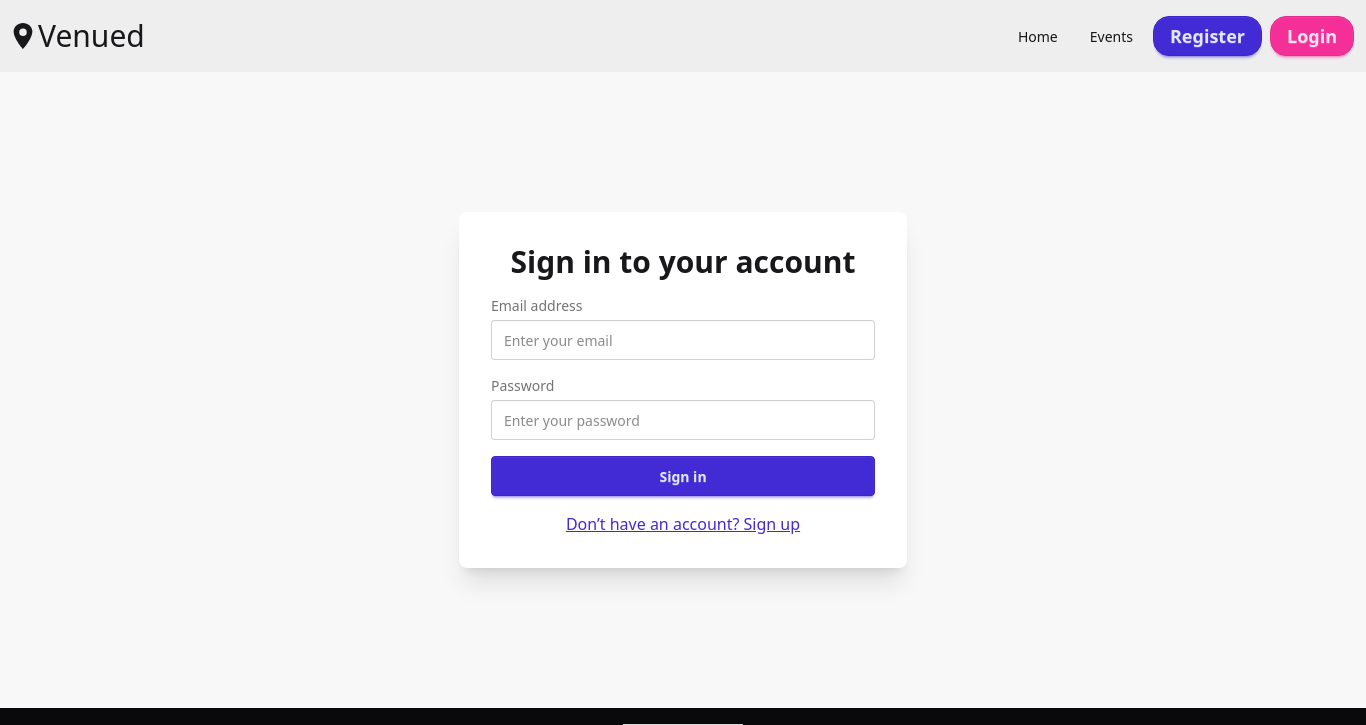
Test: auth flow: echte Formulare, Actions, Provider und Routen › prüft die Eingabe mit Zod, bevor eine Anfrage gesendet wird
Type "ada@example.com" into the field labelled "Email address" at coordinates (683, 340), box [491, 320, 875, 360]
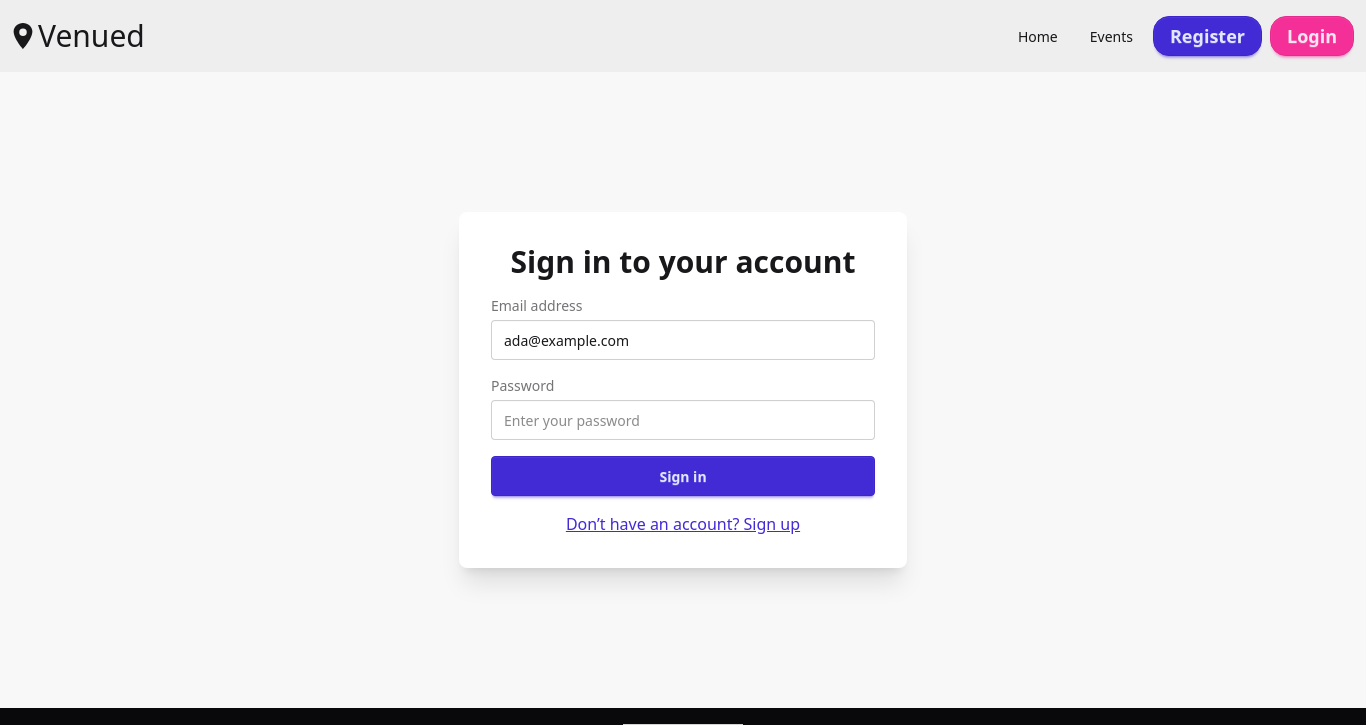
Type "short" into the password field labelled "Password" at coordinates (683, 420), box [491, 400, 875, 440]
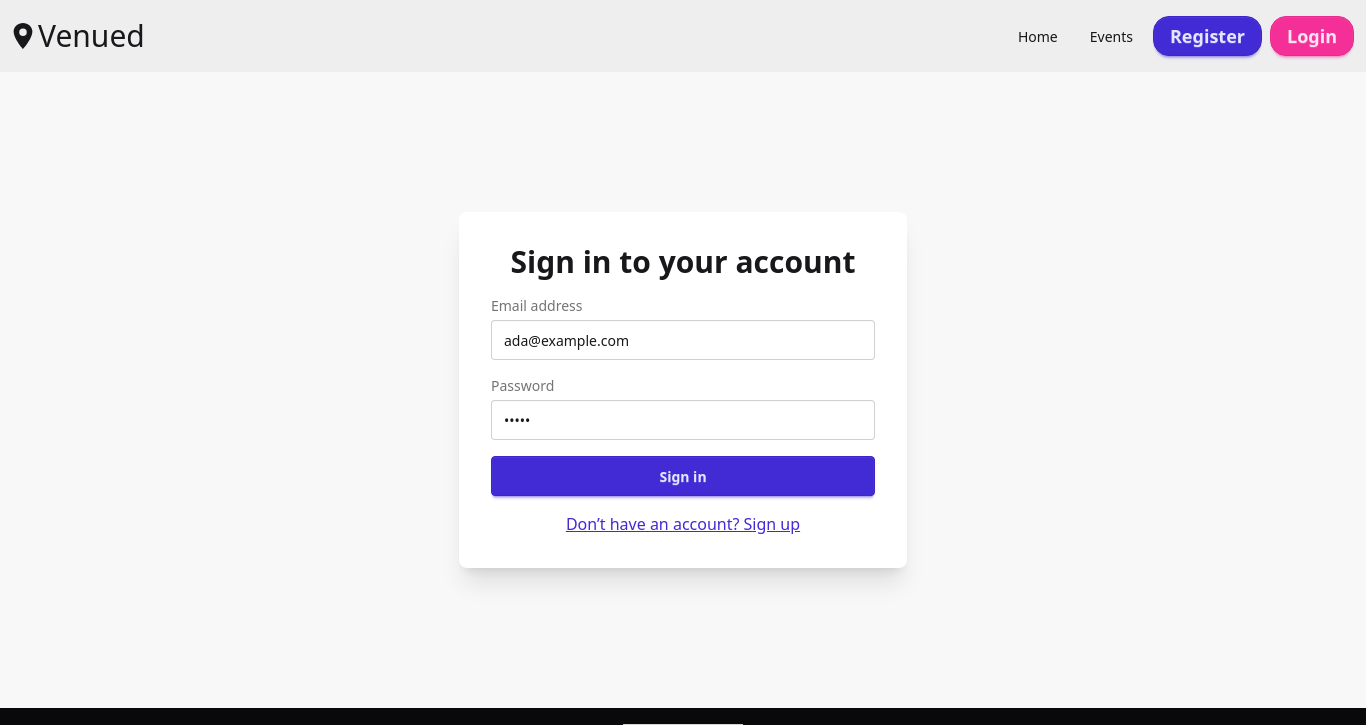
Click the button "Sign in" at coordinates (683, 476), box [491, 456, 875, 496]
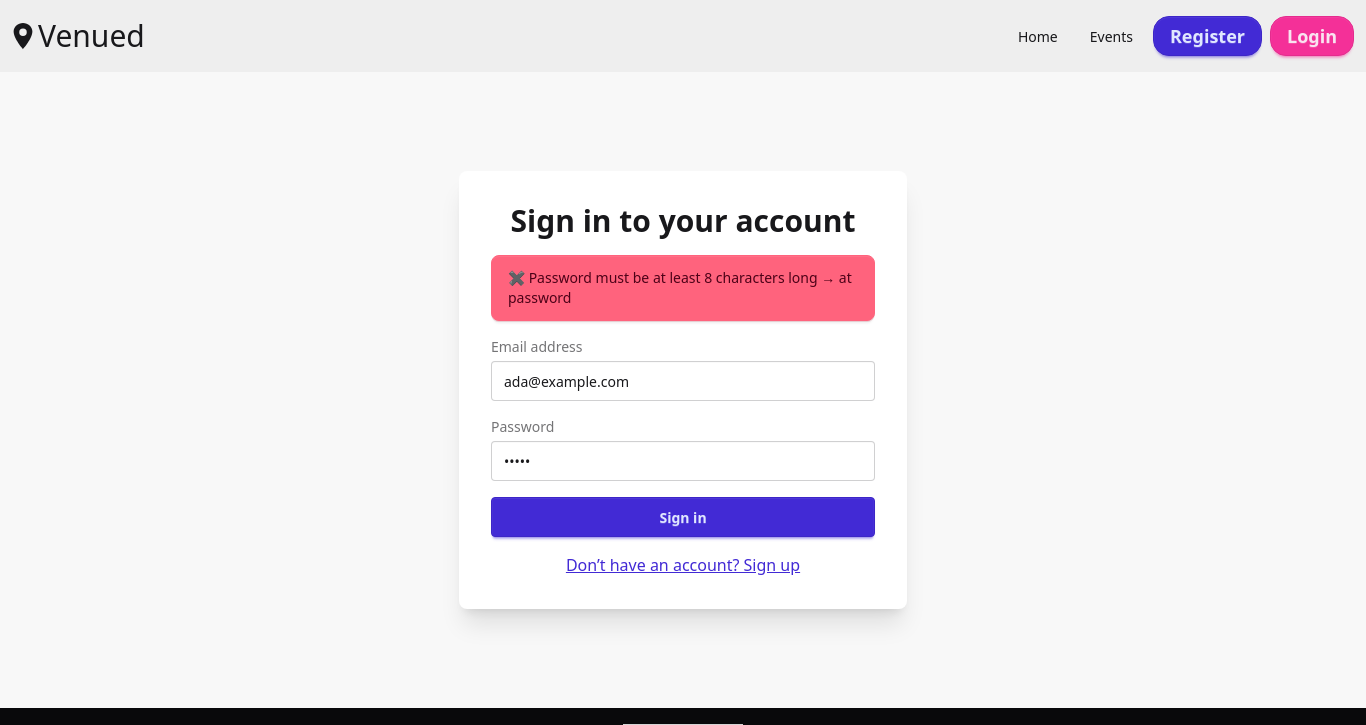
Expected: the text "✖ Password must be at least 8 characters long → at password" is shown, [508, 268, 858, 308]
